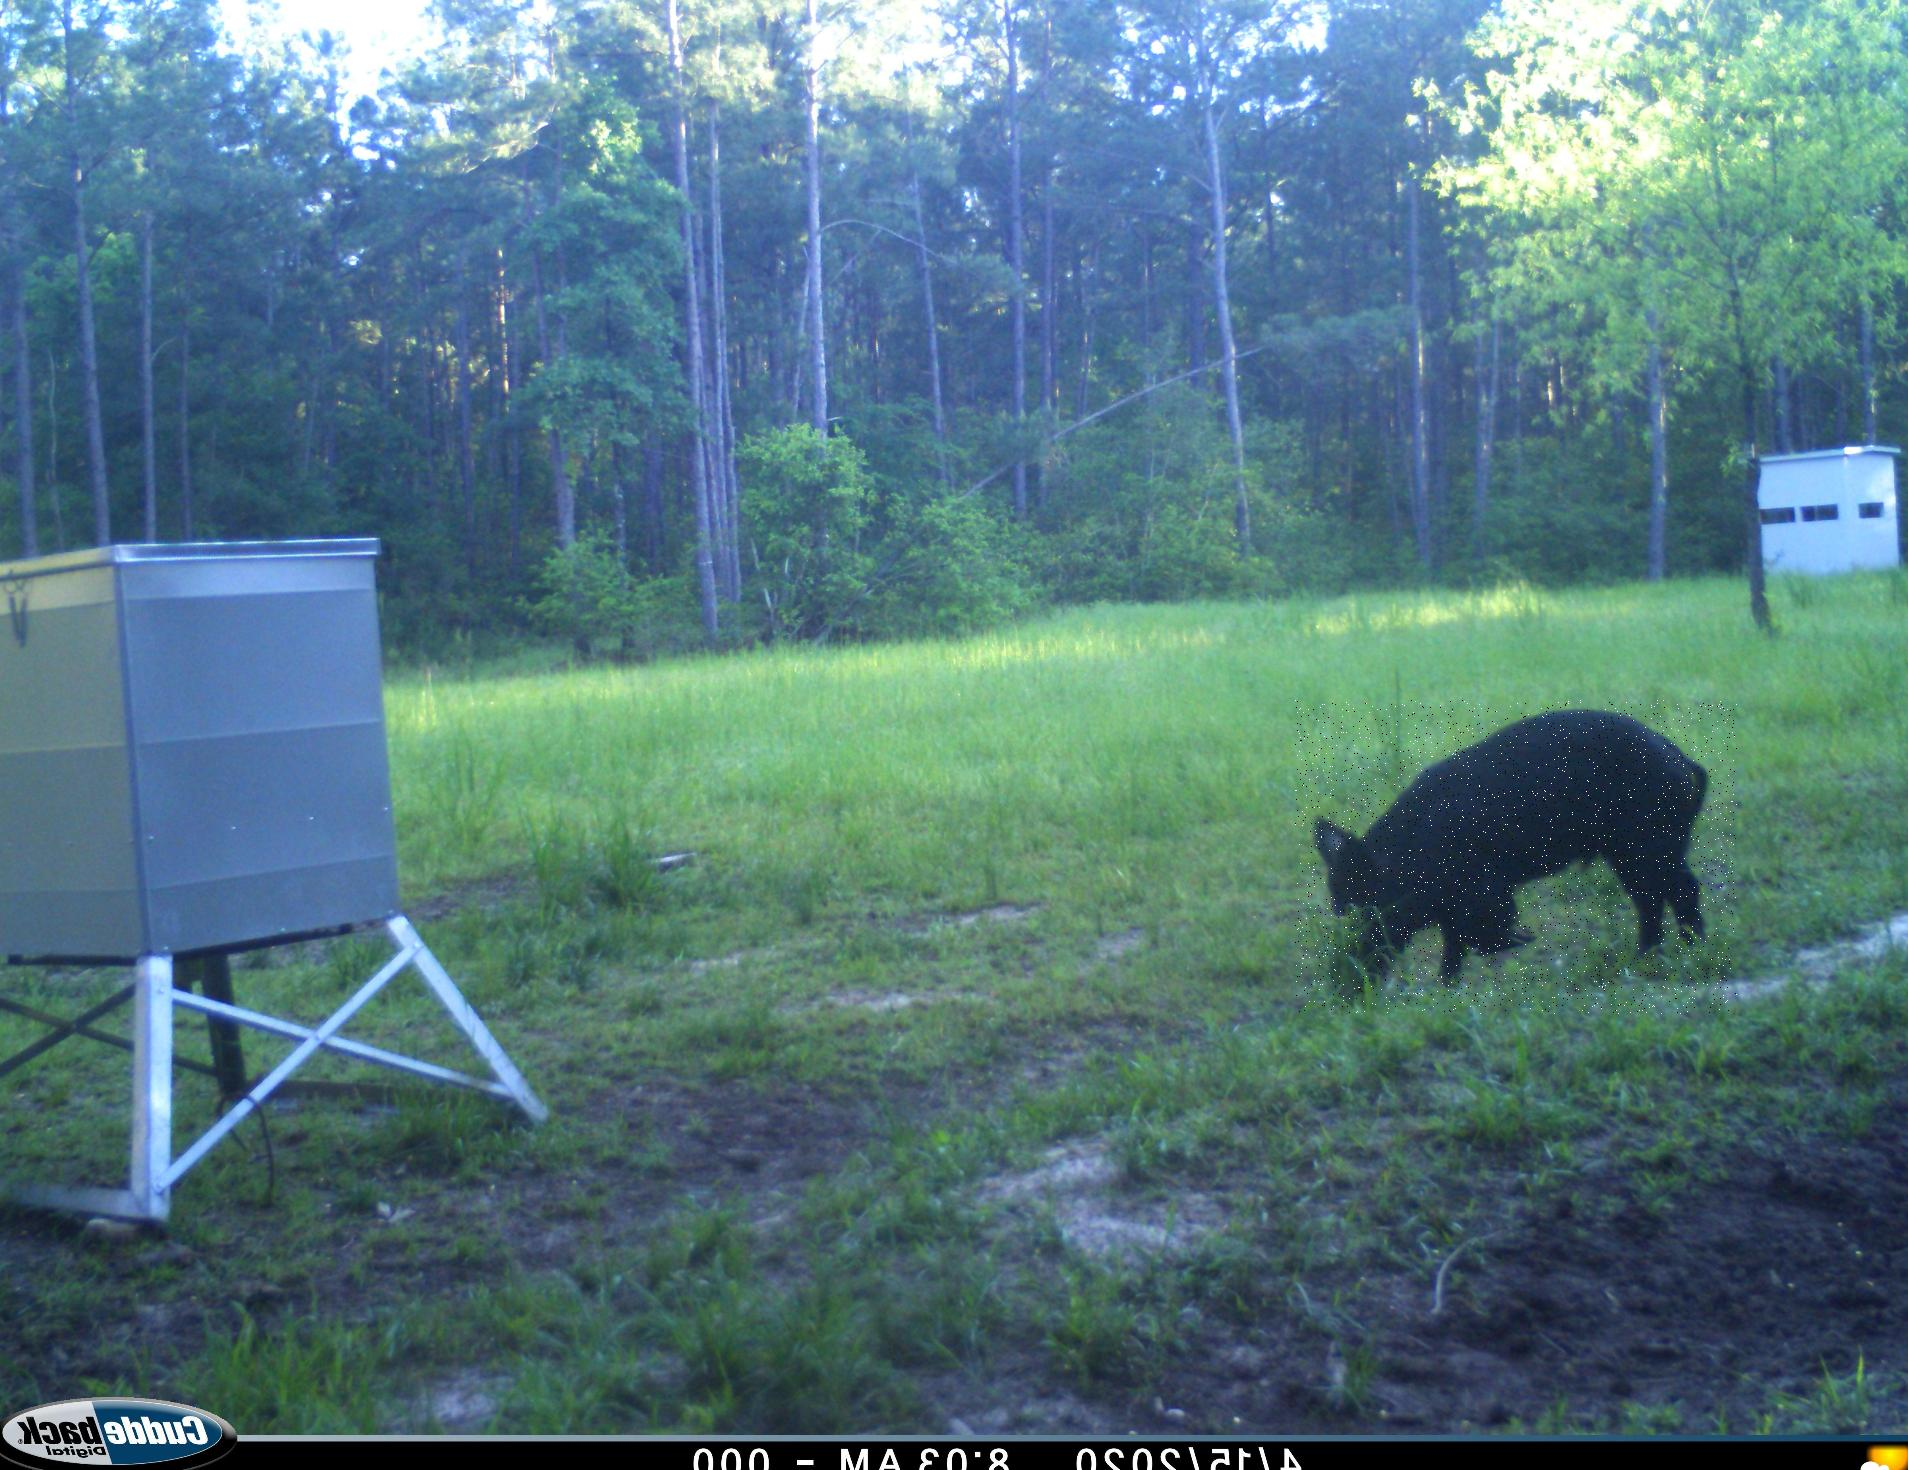Hog: (1295, 699, 1737, 1014)
